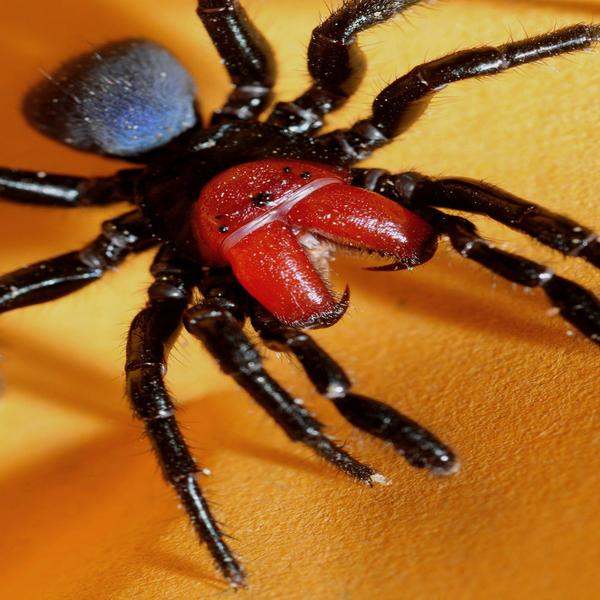Red Headed Mouse Spider: (20, 6, 570, 560)
